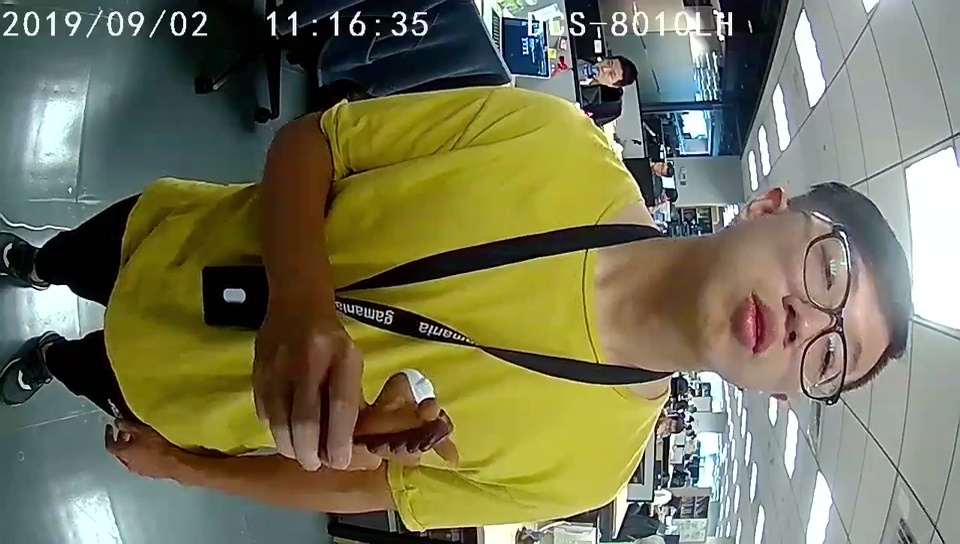horse: (359, 368, 460, 468)
